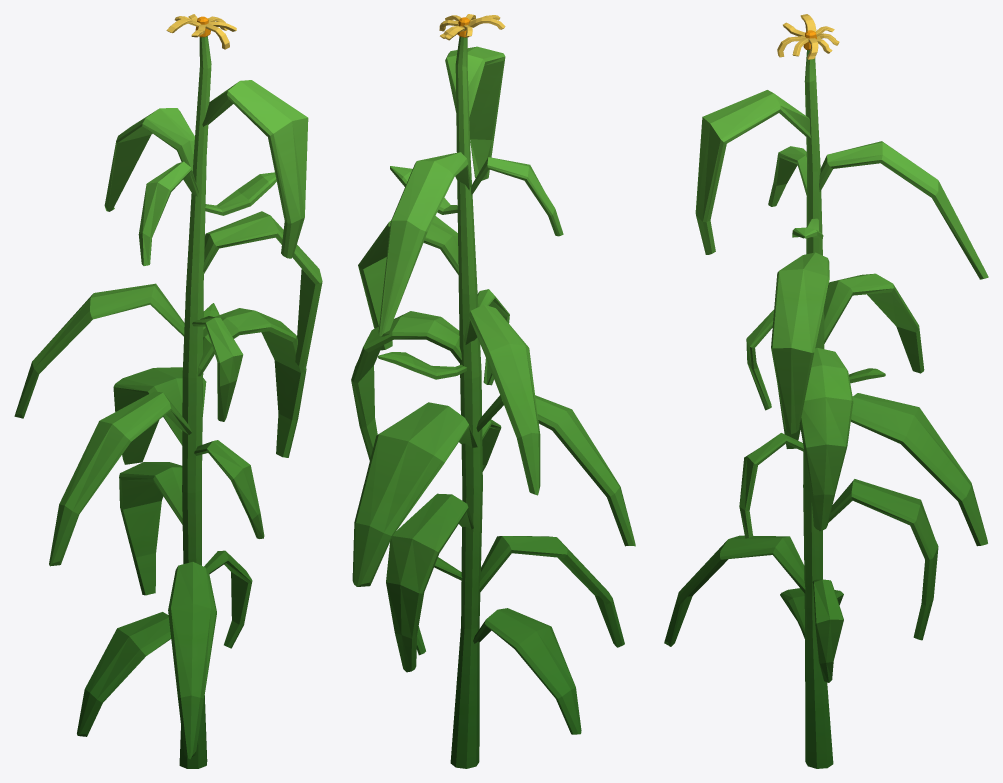
The model's file is crop_corn_stage2.glb.
3 views of the same model, side by side, from view 1: azimuth 30°, elevation 25°; view 2: azimuth 150°, elevation 25°; view 3: azimuth 270°, elevation 25° (orthographic).
Parts seen in each view (by area): view 1: crop_corn_stage2; view 2: crop_corn_stage2; view 3: crop_corn_stage2.
Boxes of the visible parts, x1=… form: crop_corn_stage2: x1=14, y1=14, x2=322, y2=768; crop_corn_stage2: x1=351, y1=14, x2=635, y2=768; crop_corn_stage2: x1=664, y1=14, x2=988, y2=768.
Bounding box in the file's own units: 0.301 × 0.8 × 0.3191.
1 material, 1 textured.
